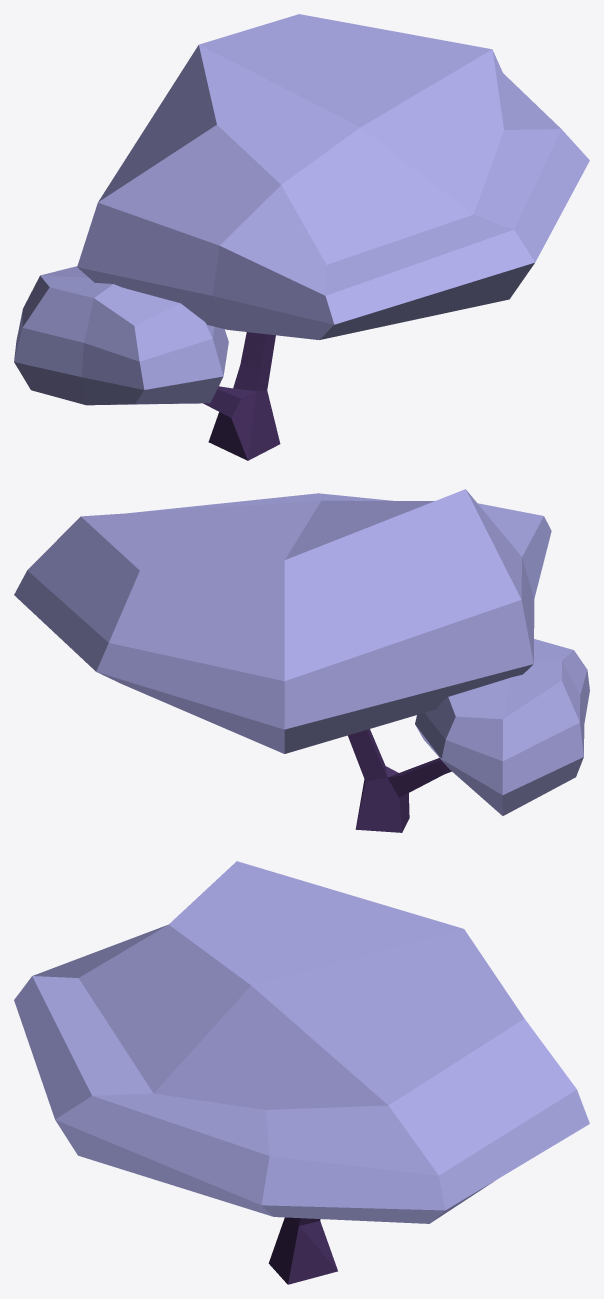
The model's file is Tree_03.fbx.
3 renders of one model, top to bottom at view 1: azimuth 30°, elevation 25°; view 2: azimuth 150°, elevation 25°; view 3: azimuth 270°, elevation 25°, orthographic. The views are drawn at different scales.
Parts seen in each view (by area): view 1: Tree_03; view 2: Tree_03; view 3: Tree_03.
Boxes of the visible parts, left/top/right/bottom form: Tree_03: left=14, top=14, right=589, bottom=460; Tree_03: left=14, top=489, right=589, bottom=832; Tree_03: left=14, top=861, right=589, bottom=1284.
Size of the model in its own units: 1259 by 772 by 1064.
